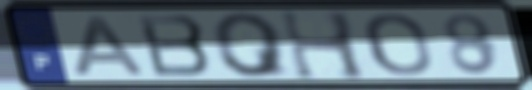8: (439, 12, 499, 77)
A: (71, 14, 149, 78)
B: (133, 12, 215, 79)
H: (276, 8, 372, 82)
O: (361, 11, 435, 78)
Q: (208, 10, 295, 79)
